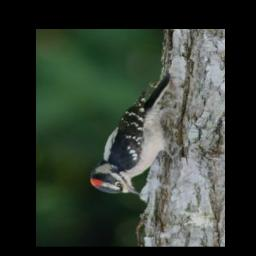Woodpecker: (88, 71, 179, 199)
